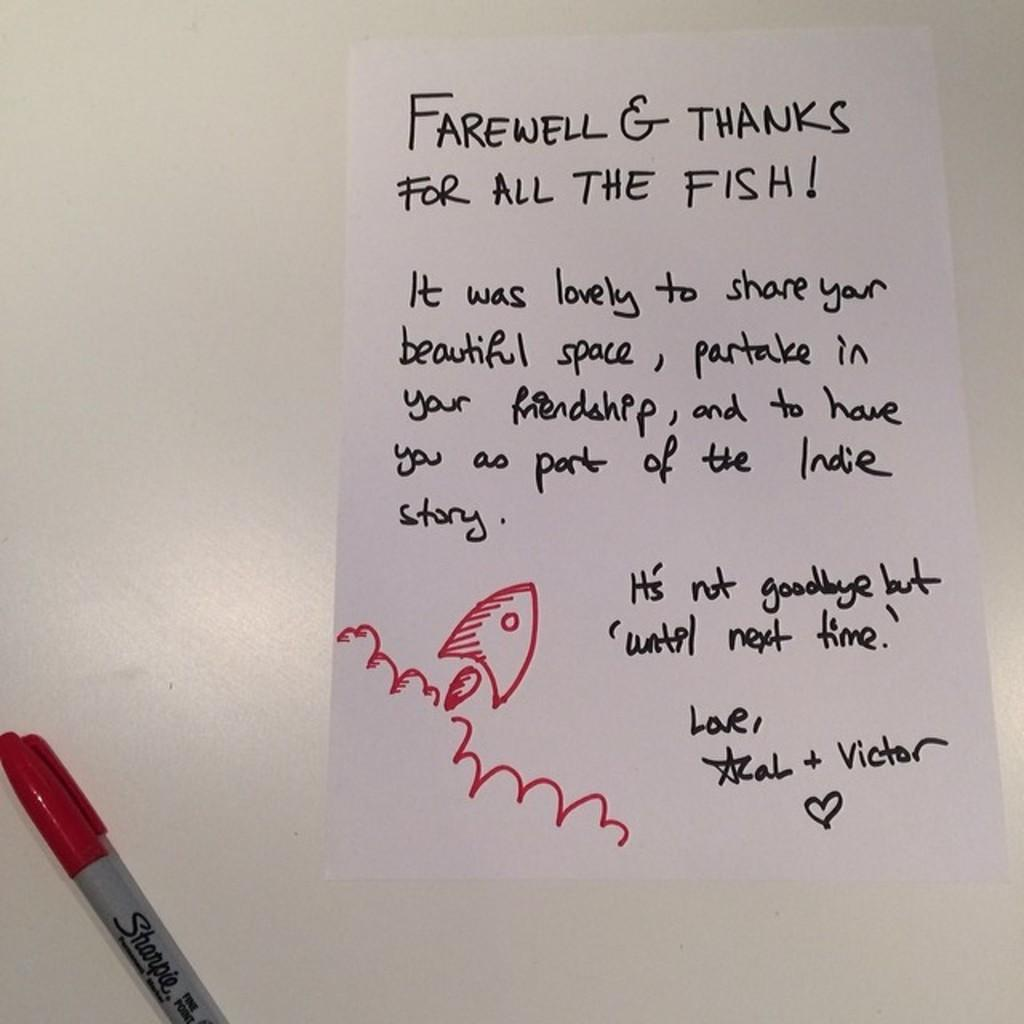pen: (0, 717, 246, 1024)
